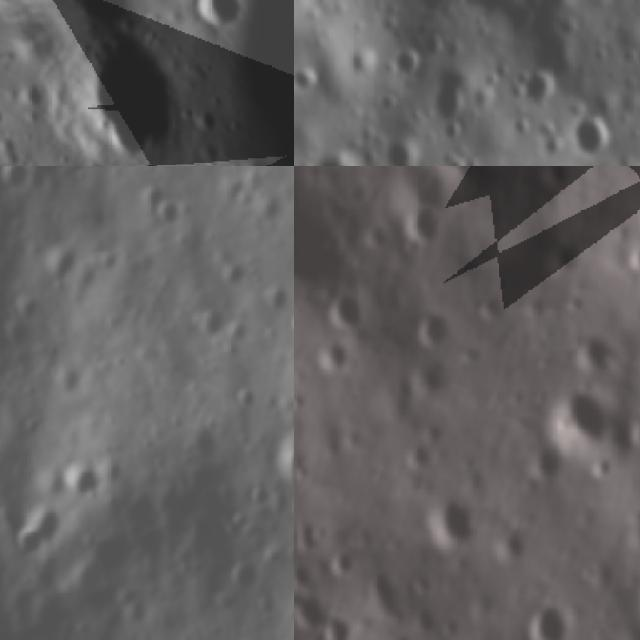crater: (27, 0, 210, 166), (552, 377, 597, 462), (14, 496, 66, 566), (428, 67, 477, 136), (554, 105, 610, 164), (179, 0, 257, 42), (423, 498, 480, 549), (509, 66, 563, 118), (60, 461, 109, 510), (11, 75, 54, 119), (149, 194, 193, 237), (371, 134, 423, 166), (193, 302, 233, 342), (253, 283, 293, 322), (302, 143, 368, 166), (380, 46, 422, 81), (231, 556, 267, 596), (0, 166, 46, 195), (219, 258, 255, 295), (415, 313, 446, 355), (276, 431, 294, 498), (320, 547, 350, 586), (316, 344, 353, 372), (335, 294, 362, 330), (294, 595, 322, 628), (294, 66, 320, 100), (537, 608, 563, 640), (411, 212, 435, 246), (323, 615, 354, 640), (543, 166, 570, 191), (561, 292, 583, 316), (624, 243, 640, 275), (0, 102, 12, 138), (294, 459, 311, 484), (383, 631, 426, 640), (294, 392, 305, 414)
